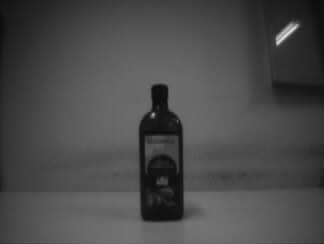Bottle: (138, 83, 184, 221)
